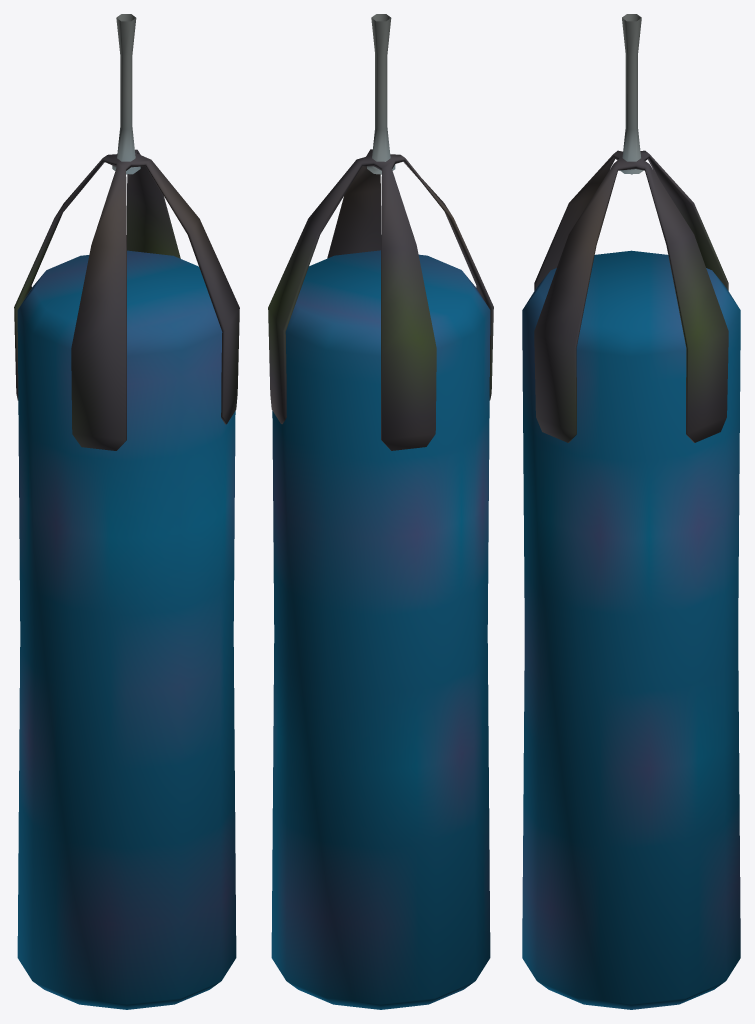
The model's file is punching_bag_2.glb.
3 renders of one model, left to right at view 1: azimuth 30°, elevation 25°; view 2: azimuth 150°, elevation 25°; view 3: azimuth 270°, elevation 25°, orthographic.
Parts seen in each view (by area): view 1: GymEquipments_23; view 2: GymEquipments_23; view 3: GymEquipments_23.
Part boxes in pixels (<box>): GymEquipments_23: <box>14,14,239,1009</box>; GymEquipments_23: <box>268,14,493,1009</box>; GymEquipments_23: <box>522,14,740,1009</box>.
Bounding box in the file's own units: 0.227 × 1.09 × 0.227.
1 material, 1 textured.
